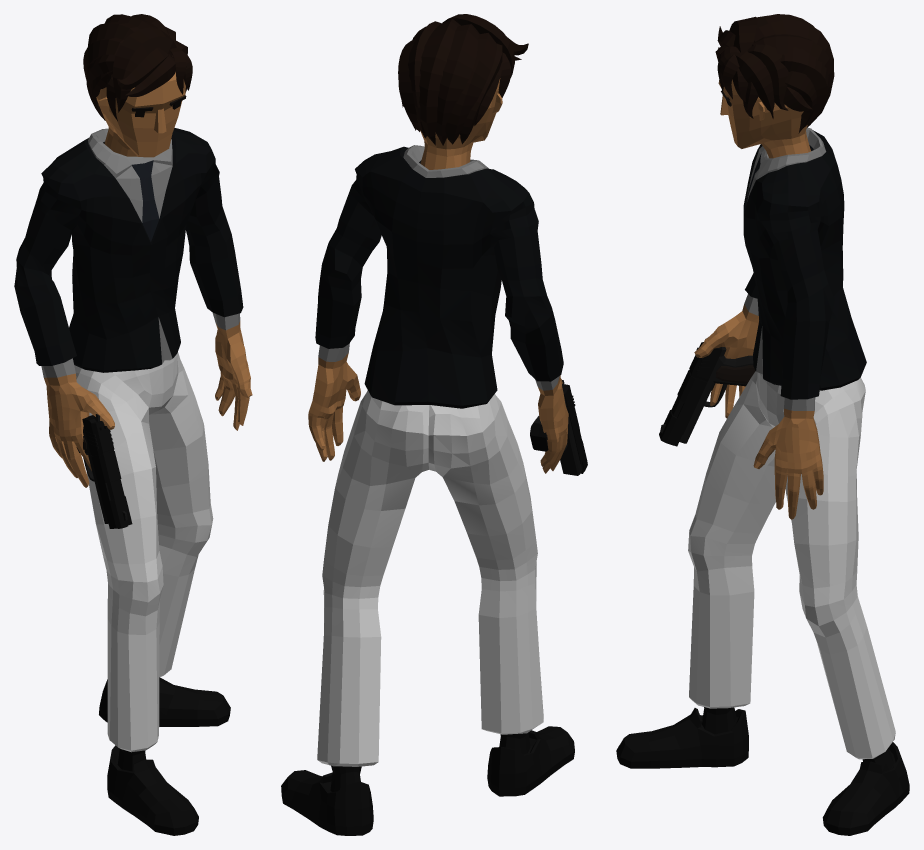
The model's file is Jugador.obj.
3 renders of one model, left to right at view 1: azimuth 30°, elevation 25°; view 2: azimuth 150°, elevation 25°; view 3: azimuth 270°, elevation 25°, orthographic. The views are drawn at different scales.
Parts seen in each view (by area): view 1: Suit_Body, Suit_Legs, Suit_Head, Suit_Feet, Pistol; view 2: Suit_Body, Suit_Legs, Suit_Head, Suit_Feet, Pistol; view 3: Suit_Legs, Suit_Body, Suit_Head, Suit_Feet, Pistol.
Boxes of the visible parts, bbox=[...] form: Suit_Body: bbox=[14, 128, 252, 487]; Suit_Legs: bbox=[74, 352, 213, 752]; Suit_Head: bbox=[83, 14, 192, 157]; Suit_Feet: bbox=[99, 677, 230, 835]; Pistol: bbox=[76, 414, 132, 528]; Suit_Body: bbox=[308, 145, 568, 473]; Suit_Legs: bbox=[317, 390, 543, 766]; Suit_Head: bbox=[398, 14, 528, 169]; Suit_Feet: bbox=[281, 726, 574, 835]; Pistol: bbox=[530, 380, 587, 475]; Suit_Legs: bbox=[688, 371, 895, 759]; Suit_Body: bbox=[694, 127, 866, 519]; Suit_Head: bbox=[715, 14, 834, 158]; Suit_Feet: bbox=[616, 707, 909, 835]; Pistol: bbox=[659, 339, 755, 446].
Bounding box in the file's own units: 0.594 × 1.81 × 0.6386.
